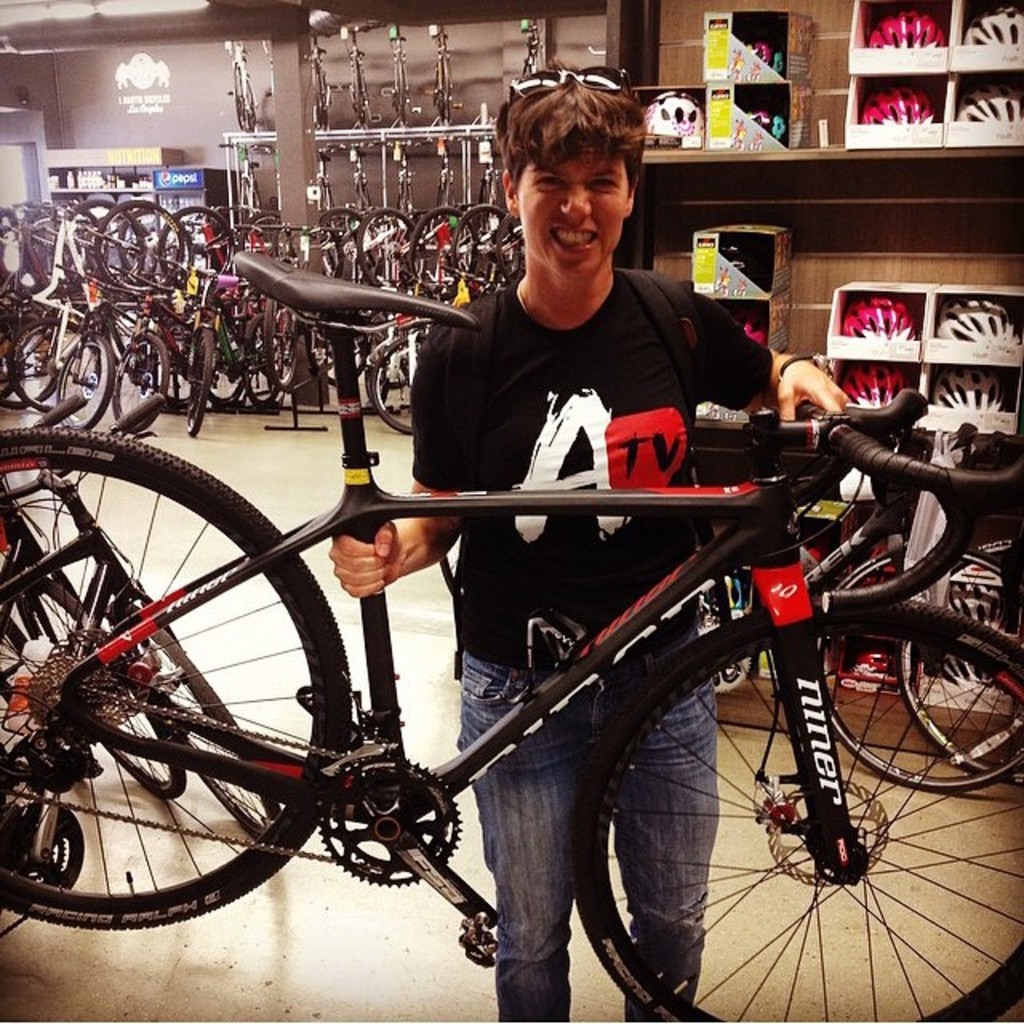Bicycle: (0, 17, 1022, 851)
